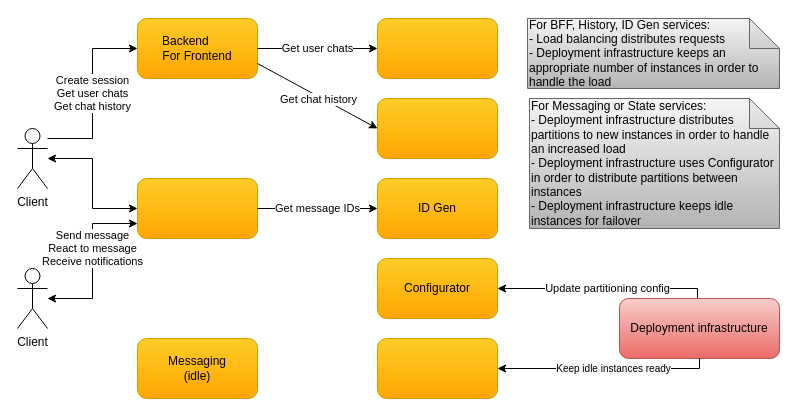
Some shapes in this 797 by 416 pixel diagram are drawn without their labels. Here are the shapes that lost their labels. From the top down, the centre of each, then its label:
At point 437,48: "State".
At point 437,128: "History".
At point 197,208: "Messaging".
At point 437,368: "State (idle)".
